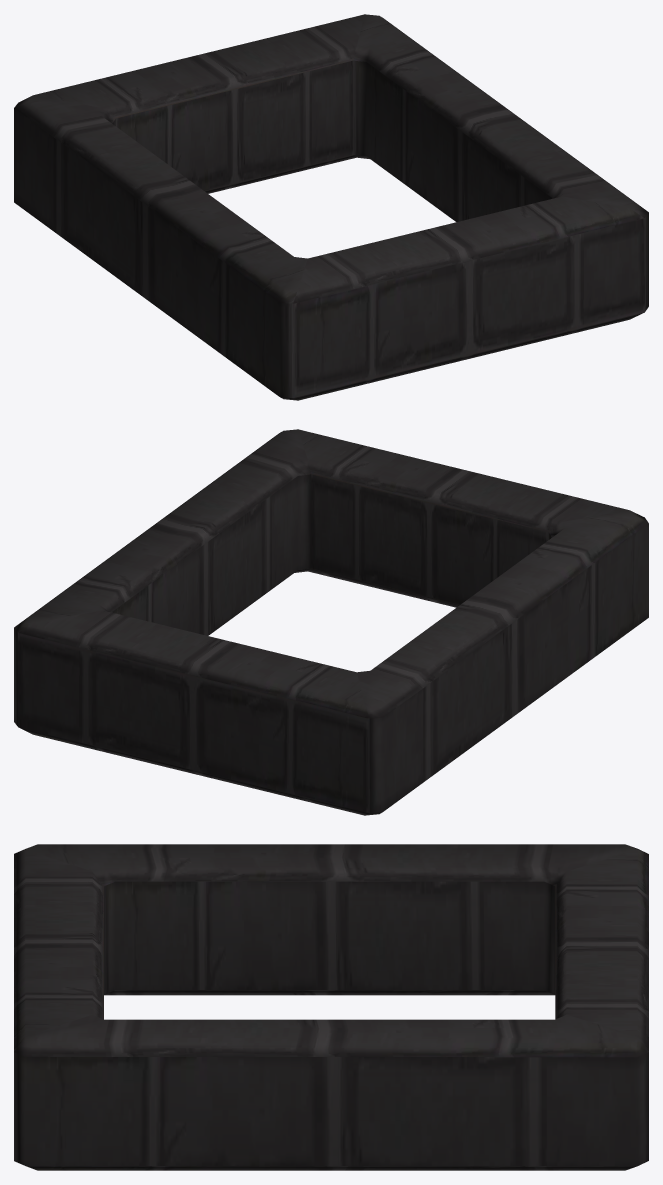
File: interior-embelisher02-art.glb
3 renders of one model, top to bottom at view 1: azimuth 30°, elevation 25°; view 2: azimuth 150°, elevation 25°; view 3: azimuth 270°, elevation 25°, orthographic. The views are drawn at different scales.
Visible parts, largest first — view 1: InteriorEmbelisher02_Art; view 2: InteriorEmbelisher02_Art; view 3: InteriorEmbelisher02_Art.
Part boxes in pixels (x1,y1,x2,y2): InteriorEmbelisher02_Art: (14, 14, 648, 400); InteriorEmbelisher02_Art: (14, 429, 648, 815); InteriorEmbelisher02_Art: (14, 844, 648, 1170).
Size of the model in its own units: 3.5 by 1.01 by 4.51.
1 material, 1 textured.
